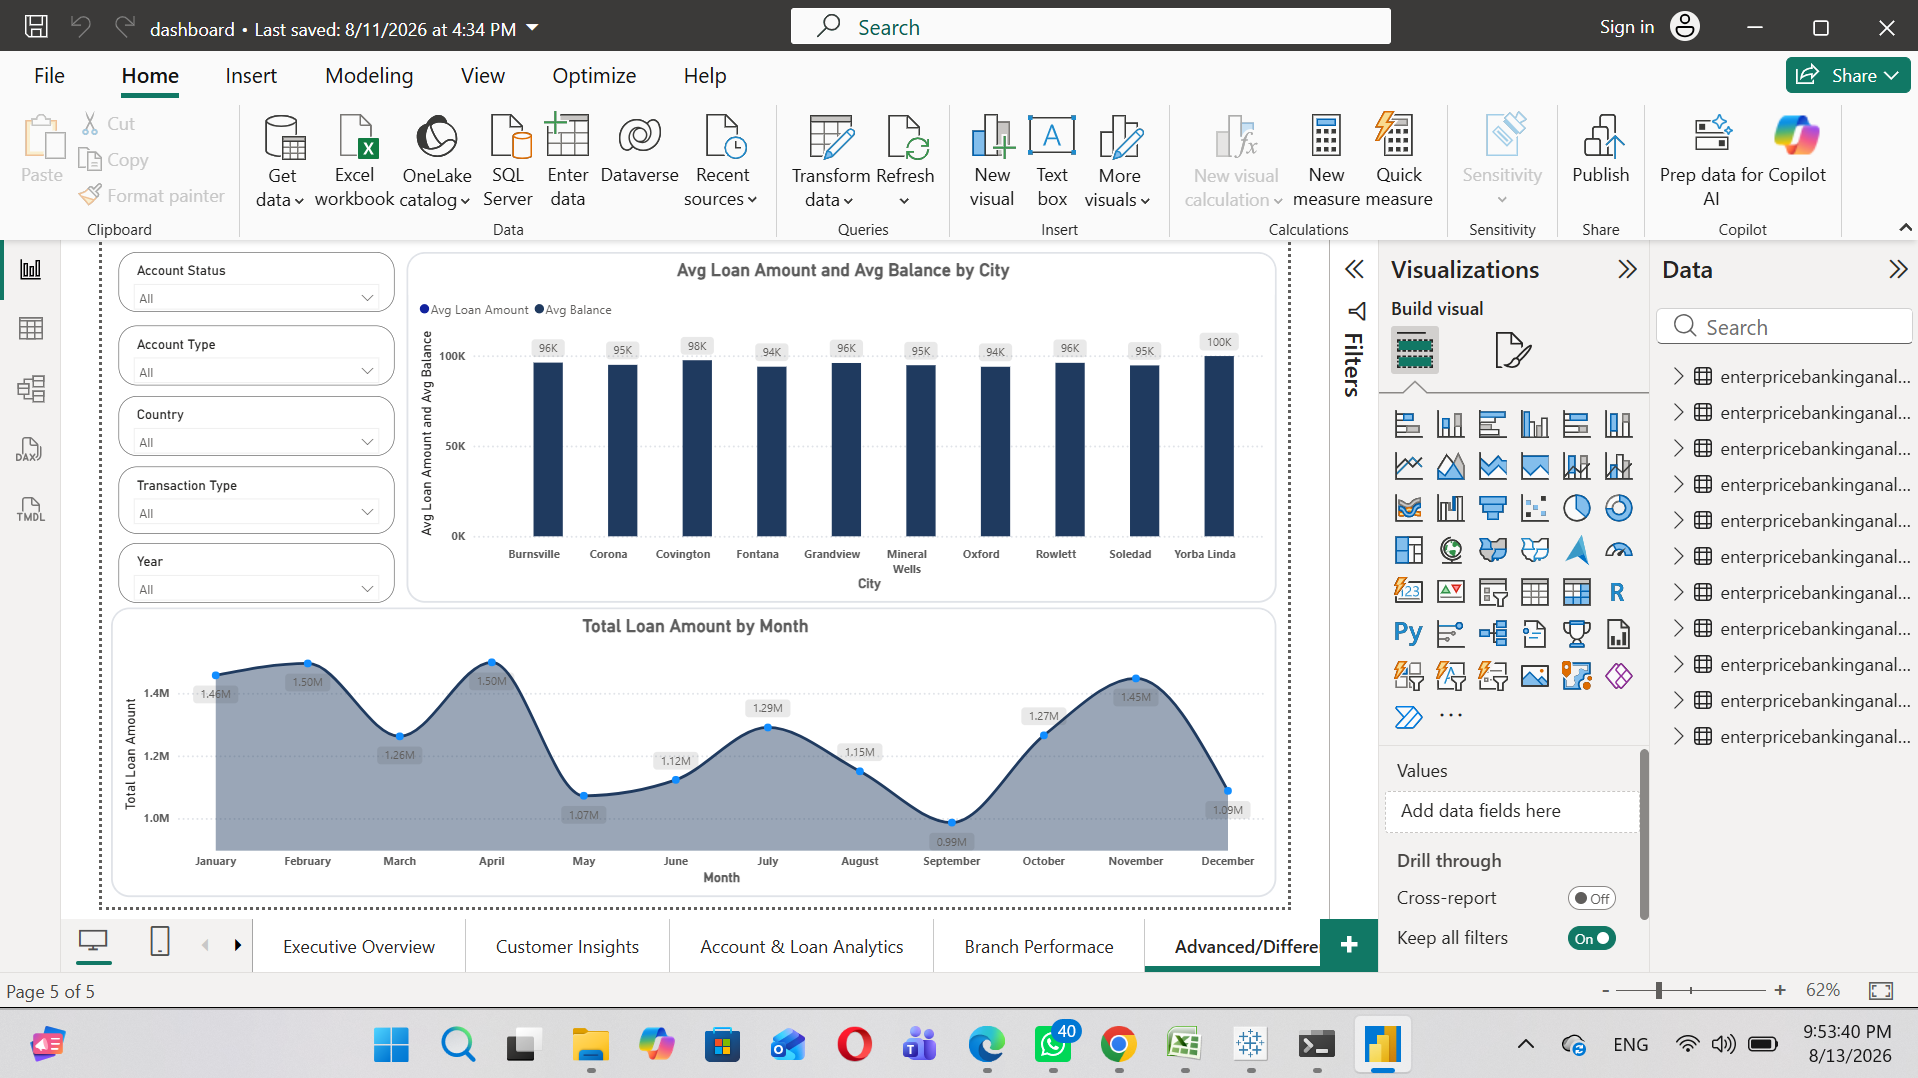

What the dashboard file says about the page in this screenshot:
{"tool":"powerbi","page":{"name":"Advanced/Differentiator Insights","canvas":[1280,720],"ordinal":4},"visuals":[{"type":"clusteredColumnChart","fields":{"Category":["enterpricebankinganalyticsdb addresses.City"],"Y":["enterpricebankinganalyticsdb loans.Avg Loan Amount","enterpricebankinganalyticsdb accounts.Avg Balance"]},"box":[328.7,13,939.2,378.9],"z":0},{"type":"areaChart","fields":{"Y":["enterpricebankinganalyticsdb loans.Total Loan Amount"],"Category":["enterpricebankinganalyticsdb loans.StartDate.Variation.Date Hierarchy.Month","enterpricebankinganalyticsdb loans.StartDate.Variation.Date Hierarchy.Day"]},"box":[9.7,396.7,1258.1,312.5],"z":1000},{"type":"slicer","fields":{"Values":["enterpricebankinganalyticsdb account_statuses.StatusName"]},"box":[17.8,13,297.9,64.8],"z":1001},{"type":"slicer","fields":{"Values":["enterpricebankinganalyticsdb account_types.TypeName"]},"box":[17.8,92.3,297.9,64.8],"z":1002},{"type":"slicer","fields":{"Values":["enterpricebankinganalyticsdb addresses.Country"]},"box":[17.8,168.4,297.9,64.8],"z":1003},{"type":"slicer","fields":{"Values":["enterpricebankinganalyticsdb transaction_types.TypeName"]},"box":[17.8,244.5,297.9,72.9],"z":1004},{"type":"slicer","fields":{"Values":["enterpricebankinganalyticsdb transactions.TransactionDate.Variation.Date Hierarchy.Year"]},"box":[17.8,327.1,297.9,64.8],"z":1005}]}

Visuals, with their boxes on the page's 1280x720 design canvas (x1, y1, x2, y2). These are canvas units, not pixel positions in the 1918x1078 screenshot, which may show the page scaled, cropped or inside an application window:
clusteredColumnChart - enterpricebankinganalyticsdb addresses.City x enterpricebankinganalyticsdb loans.Avg Loan Amount: [x1=329, y1=13, x2=1268, y2=392]
areaChart - enterpricebankinganalyticsdb loans.Total Loan Amount x enterpricebankinganalyticsdb loans.StartDate.Variation.Date Hierarchy.Month: [x1=10, y1=397, x2=1268, y2=709]
slicer - enterpricebankinganalyticsdb account_statuses.StatusName: [x1=18, y1=13, x2=316, y2=78]
slicer - enterpricebankinganalyticsdb account_types.TypeName: [x1=18, y1=92, x2=316, y2=157]
slicer - enterpricebankinganalyticsdb addresses.Country: [x1=18, y1=168, x2=316, y2=233]
slicer - enterpricebankinganalyticsdb transaction_types.TypeName: [x1=18, y1=244, x2=316, y2=317]
slicer - enterpricebankinganalyticsdb transactions.TransactionDate.Variation.Date Hierarchy.Year: [x1=18, y1=327, x2=316, y2=392]
